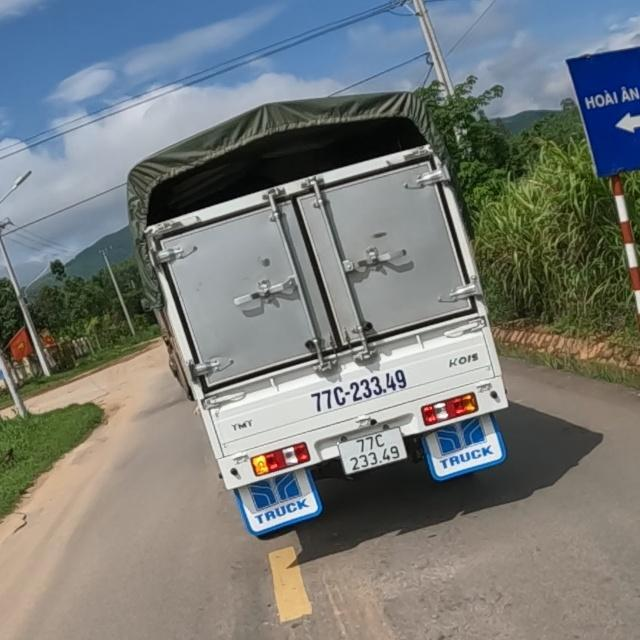car: (123, 87, 513, 545)
plate: (338, 426, 412, 478)
